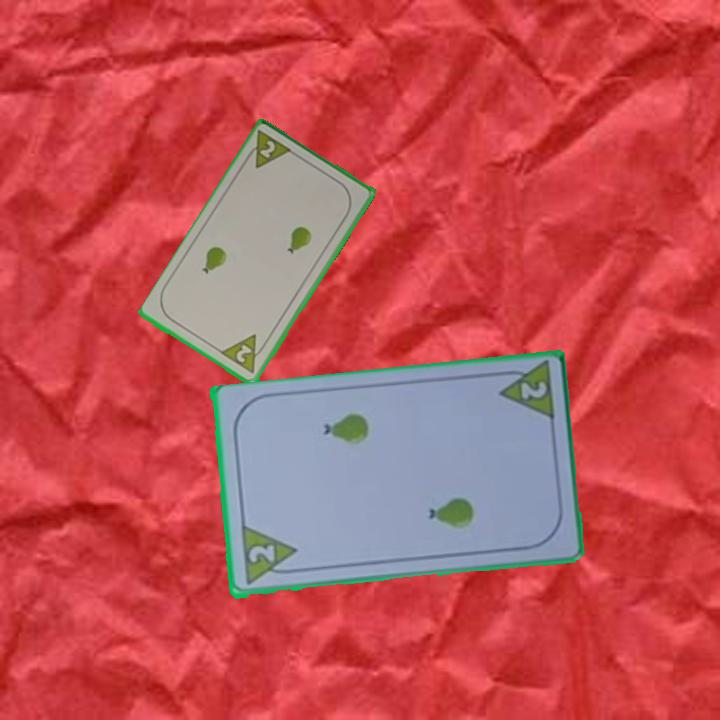2p: (240, 127, 296, 172), (218, 331, 270, 377), (244, 541, 278, 566), (516, 378, 550, 403)
